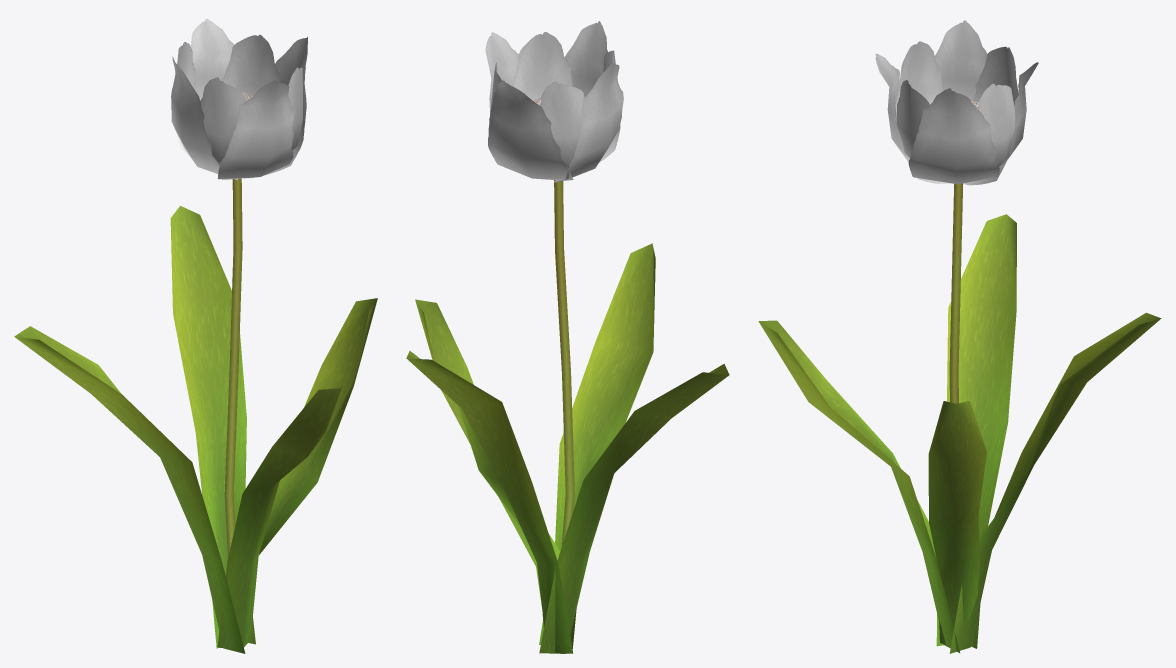
File: m_flower15.fbx
3 views of the same model, side by side, from view 1: azimuth 30°, elevation 25°; view 2: azimuth 150°, elevation 25°; view 3: azimuth 270°, elevation 25° (orthographic).
Parts seen in each view (by area): view 1: mesh_flower15; view 2: mesh_flower15; view 3: mesh_flower15.
Part boxes in pixels (left/top/right/bottom): mesh_flower15: left=14, top=19, right=377, bottom=653; mesh_flower15: left=406, top=21, right=729, bottom=653; mesh_flower15: left=758, top=20, right=1161, bottom=653.
Bounding box in the file's own units: 0.2453 × 0.4208 × 0.2546.
1 material, 1 textured.
